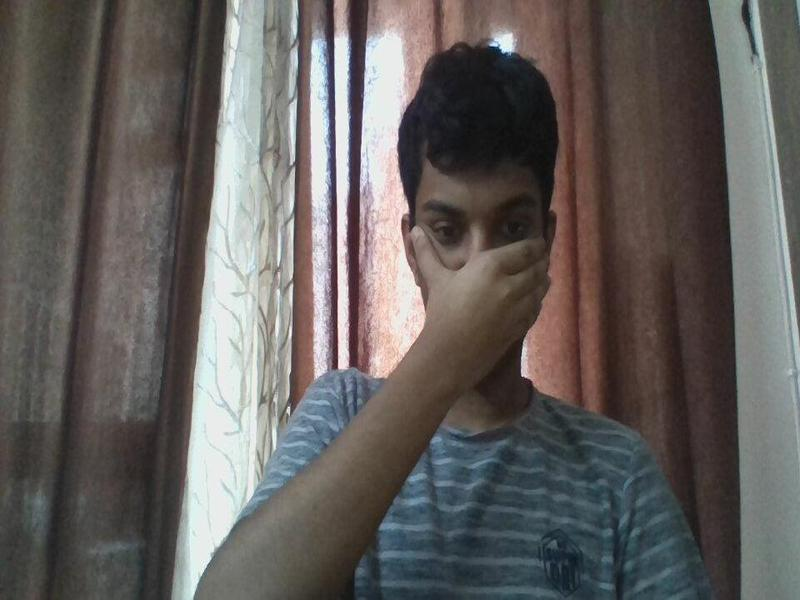without_mask: (416, 157, 546, 357)
